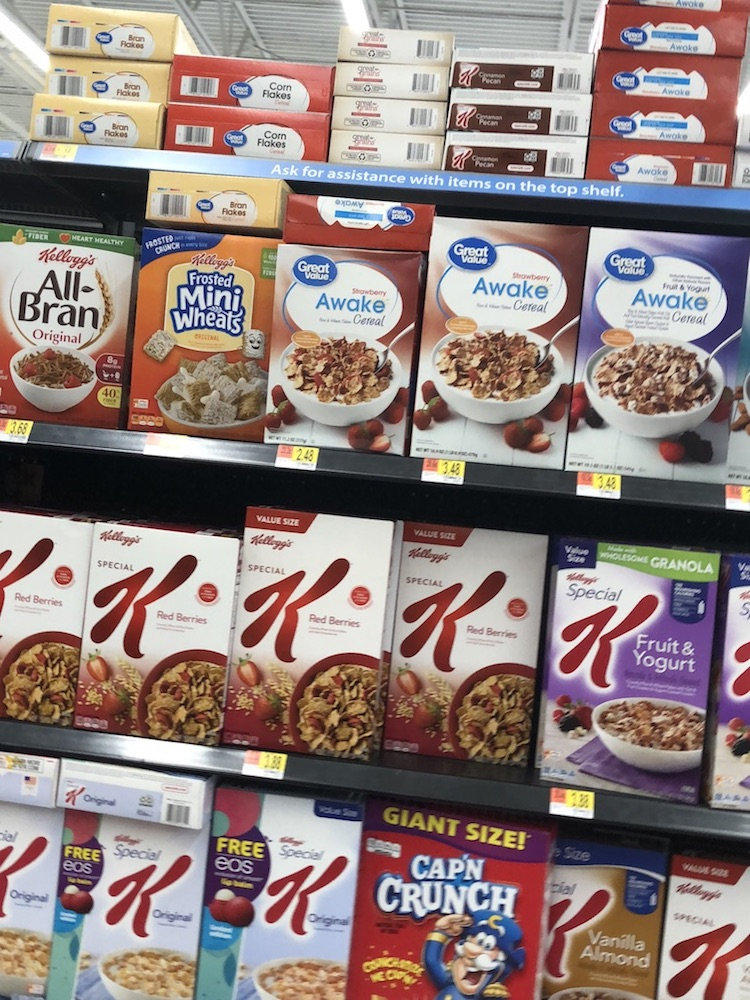Frosted Mini Original -9295869: (133, 229, 265, 443)
